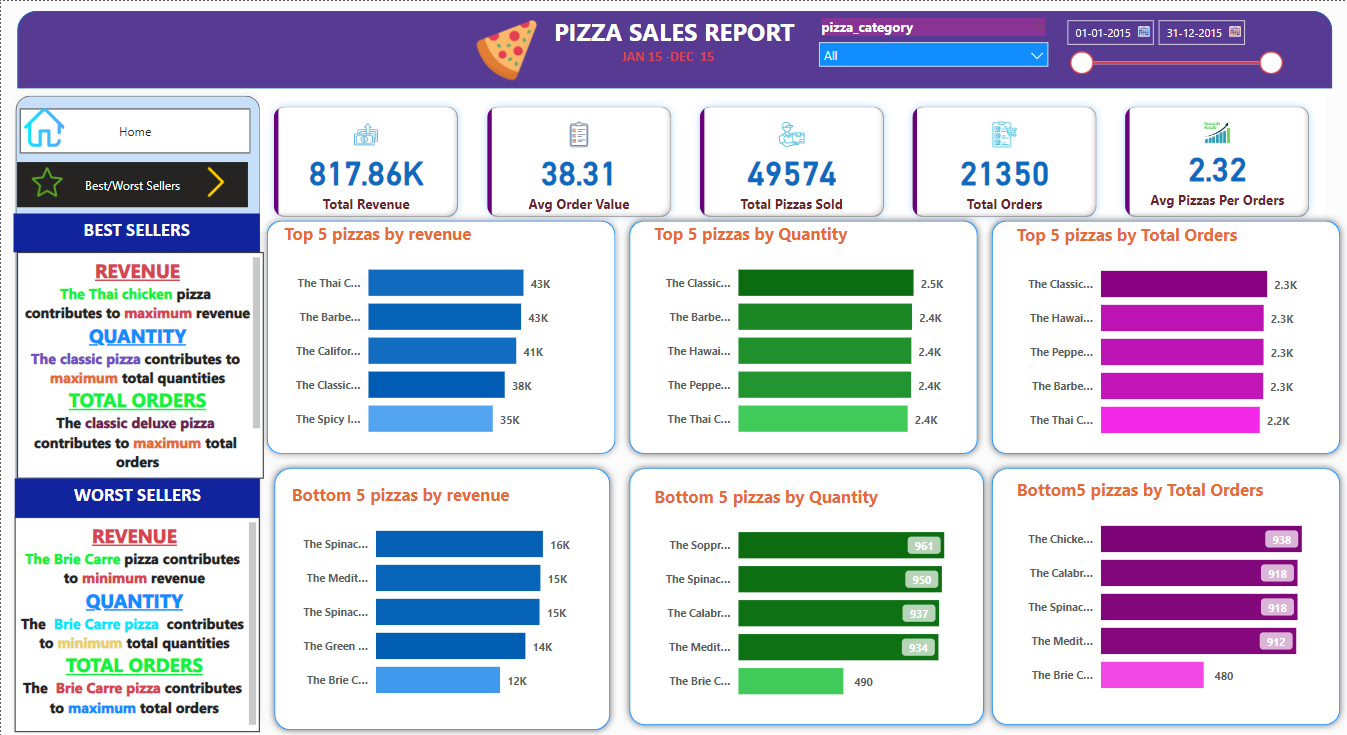

This screenshot's page, from the dashboard's own definition file:
{"tool":"powerbi","page":{"name":"Best/Worst Sellers","canvas":[1500,820],"ordinal":1},"visuals":[{"type":"shape","box":[8.4,97.5,288.2,722.5],"z":0},{"type":"cardVisual","fields":{"Data":["pizza_sales.Toatl Revenue","pizza_sales.Avg Order Value","pizza_sales.Total Pizzas Sold","pizza_sales.Total Orders","pizza_sales.Avg Pizzas Per Orders"]},"box":[288.2,101.6,1186.1,155.9],"z":1000},{"type":"shape","box":[18.1,11.1,1464.6,86.3],"z":2000},{"type":"textbox","box":[584.7,11.1,329.9,51.5],"z":3000},{"type":"textbox","box":[686.3,47.3,130.9,30.6],"z":4000},{"type":"image","box":[523.5,0,79.4,110],"z":5000},{"type":"shape","box":[288.2,236.7,404,275.7],"z":6000},{"type":"textbox","box":[13.9,236.7,274.3,43.2],"z":7000},{"type":"textbox","box":[18.1,279.8,274.3,252],"z":8000},{"type":"textbox","box":[15.3,531.8,272.9,43.2],"z":9000},{"type":"textbox","box":[15.3,575,272.9,239.5],"z":10000},{"type":"slicer","fields":{"Values":["pizza_sales.pizza_category"]},"box":[900.7,13.9,275.7,64],"z":11000},{"type":"slicer","fields":{"Values":["pizza_sales.order_date"]},"box":[1175,11.1,260.3,86.3],"z":12000},{"type":"shape","box":[691.9,236.7,403.7,275.7],"z":13000},{"type":"shape","box":[1095.7,236.7,403.7,275.7],"z":14000},{"type":"shape","box":[296.5,512.3,389.8,307.7],"z":15000},{"type":"shape","box":[691.9,512.3,410.7,302.1],"z":16000},{"type":"shape","box":[1095.7,512.3,403.7,302.1],"z":17000},{"type":"barChart","title":"Top 5 pizzas by revenue","fields":{"Category":["pizza_sales.pizza_name"],"Y":["pizza_sales.Total Revenue"]},"box":[310.5,246.4,342.5,254.8],"z":18000},{"type":"barChart","title":"Bottom 5 pizzas by revenue","fields":{"Category":["pizza_sales.pizza_name"],"Y":["pizza_sales.Total Revenue"]},"box":[318.8,537.4,342.5,254.8],"z":19000},{"type":"barChart","title":"Top 5 pizzas by Quantity","fields":{"Category":["pizza_sales.pizza_name"],"Y":["pizza_sales.Total Pizzas Sold"]},"box":[722.5,246.4,342.5,254.8],"z":20000},{"type":"barChart","title":"Bottom 5 pizzas by Quantity","fields":{"Category":["pizza_sales.pizza_name"],"Y":["pizza_sales.Total Pizzas Sold"]},"box":[722.5,538.8,342.5,254.8],"z":21000},{"type":"barChart","title":"Top 5 pizzas by Total Orders","fields":{"Category":["pizza_sales.pizza_name"],"Y":["pizza_sales.Total Orders"]},"box":[1126.3,247.8,342.5,254.8],"z":22000},{"type":"barChart","title":"Bottom5 pizzas by Total Orders","fields":{"Category":["pizza_sales.pizza_name"],"Y":["pizza_sales.Total Orders"]},"box":[1126.3,531.8,342.5,254.8],"z":23000},{"type":"pageNavigator","box":[18.1,179.6,257.6,50.1],"z":23001},{"type":"pageNavigator","box":[20.9,119.7,257.6,50.1],"z":23002},{"type":"image","box":[215.8,179.6,47.3,44.6],"z":23003},{"type":"image","box":[20.9,111.4,54.3,58.5],"z":23004},{"type":"image","box":[27.8,179.6,47.3,44.6],"z":23005}]}

Visuals, with their boxes in screenshot pixels (x1, y1, x2, y2), scaled from the page's 1500x820 canvas onto the 1347x735 screenshot:
shape: left=8, top=87, right=266, bottom=734
cardVisual - pizza_sales.Toatl Revenue x pizza_sales.Avg Order Value: left=259, top=91, right=1324, bottom=231
shape: left=16, top=10, right=1331, bottom=87
textbox: left=525, top=10, right=821, bottom=56
textbox: left=616, top=42, right=734, bottom=70
image: left=470, top=0, right=541, bottom=99
shape: left=259, top=212, right=622, bottom=459
textbox: left=12, top=212, right=259, bottom=251
textbox: left=16, top=251, right=263, bottom=477
textbox: left=14, top=477, right=259, bottom=515
textbox: left=14, top=515, right=259, bottom=730
slicer - pizza_sales.pizza_category: left=809, top=12, right=1056, bottom=70
slicer - pizza_sales.order_date: left=1055, top=10, right=1289, bottom=87
shape: left=621, top=212, right=984, bottom=459
shape: left=984, top=212, right=1346, bottom=459
shape: left=266, top=459, right=616, bottom=734
shape: left=621, top=459, right=990, bottom=730
shape: left=984, top=459, right=1346, bottom=730
"Top 5 pizzas by revenue" barChart: left=279, top=221, right=586, bottom=449
"Bottom 5 pizzas by revenue" barChart: left=286, top=482, right=594, bottom=710
"Top 5 pizzas by Quantity" barChart: left=649, top=221, right=956, bottom=449
"Bottom 5 pizzas by Quantity" barChart: left=649, top=483, right=956, bottom=711
"Top 5 pizzas by Total Orders" barChart: left=1011, top=222, right=1319, bottom=451
"Bottom5 pizzas by Total Orders" barChart: left=1011, top=477, right=1319, bottom=705
pageNavigator: left=16, top=161, right=248, bottom=206
pageNavigator: left=19, top=107, right=250, bottom=152
image: left=194, top=161, right=236, bottom=201
image: left=19, top=100, right=68, bottom=152
image: left=25, top=161, right=67, bottom=201
